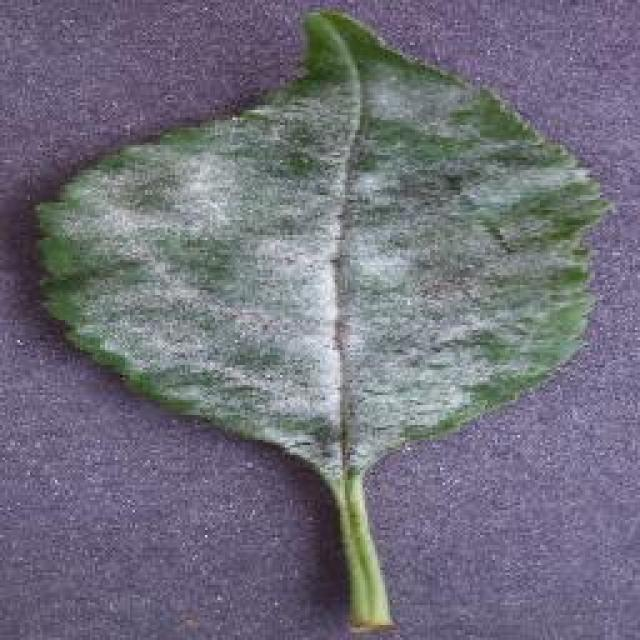Cherry___Powdery_mildew: (20, 0, 622, 638)
